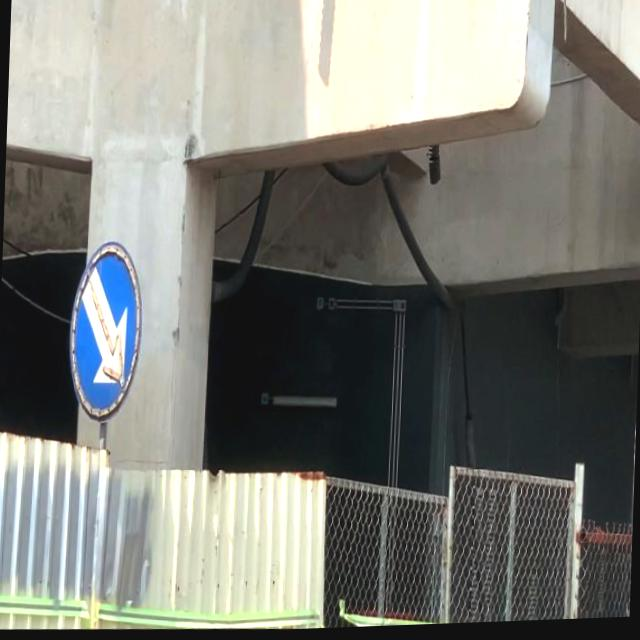Vong chuong ngai vat sang phai: (61, 234, 148, 432)
